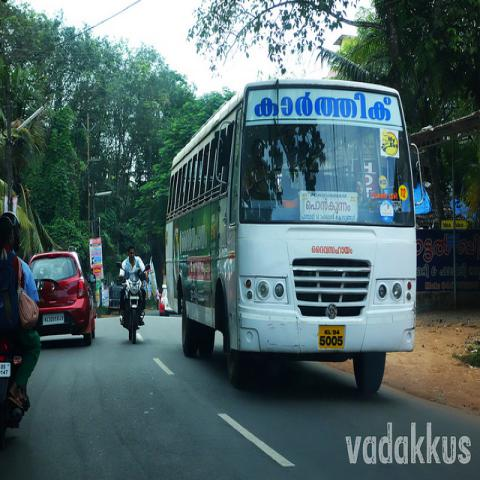bus: (167, 80, 427, 394)
car: (30, 255, 98, 351), (157, 287, 176, 317)
motorcycle: (116, 261, 154, 339), (0, 338, 22, 434)
